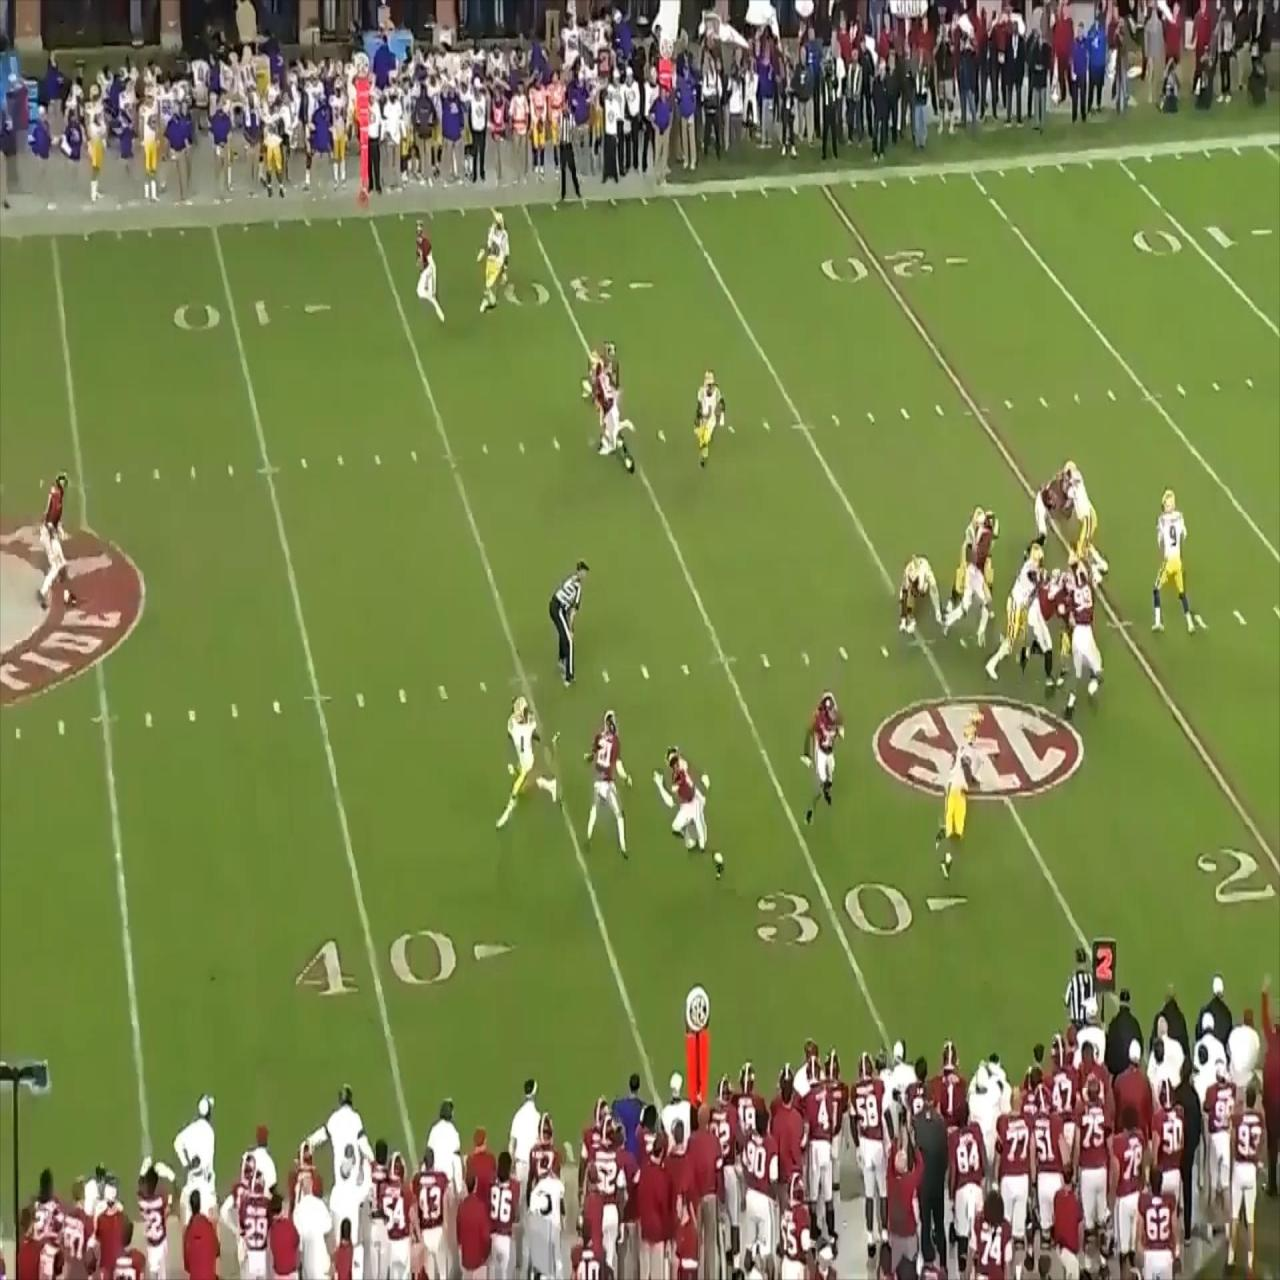10R: (1132, 223, 1273, 259)
20R: (822, 246, 969, 286), (1196, 844, 1280, 904)
30R: (756, 883, 968, 948), (503, 275, 654, 309)
40R: (295, 930, 517, 998), (172, 298, 333, 331)
